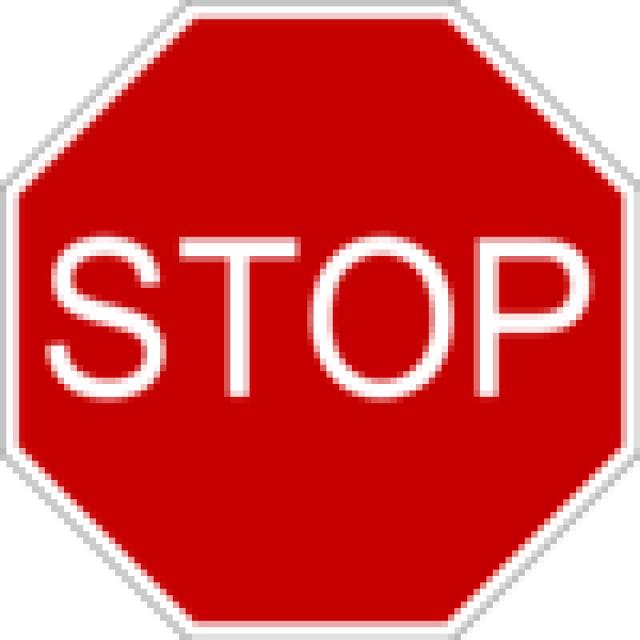let_go: (0, 0, 633, 636)
